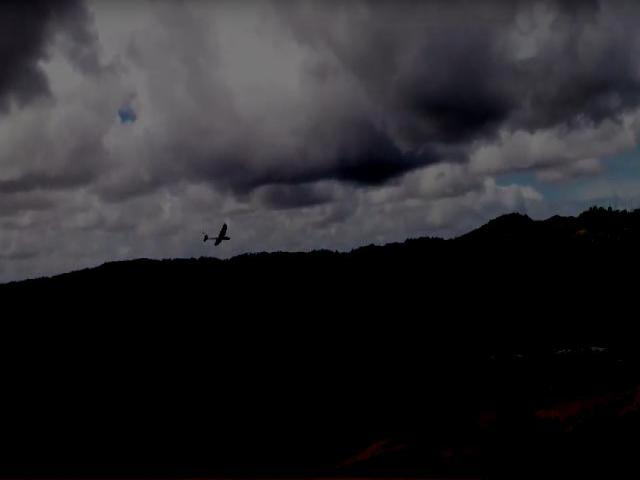iha: (202, 220, 237, 248)
